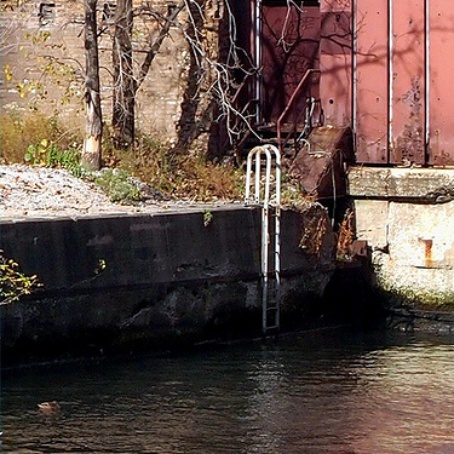river: (1, 324, 443, 454)
tree: (24, 1, 224, 165)
